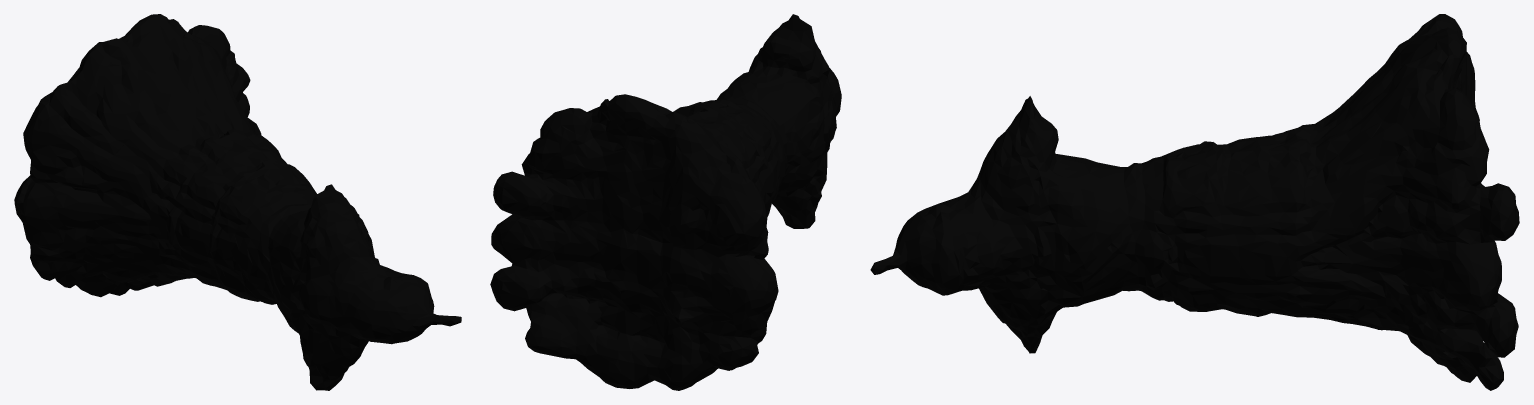
3 renders of one model, left to right at view 1: azimuth 30°, elevation 25°; view 2: azimuth 150°, elevation 25°; view 3: azimuth 270°, elevation 25°, orthographic. The views are drawn at different scales.
Parts seen in each view (by area): view 1: geometry_0; view 2: geometry_0; view 3: geometry_0.
Part boxes in pixels (x1,y1,x2,y2): geometry_0: (14, 14, 461, 390); geometry_0: (490, 14, 841, 390); geometry_0: (870, 14, 1519, 390).
Bounding box in the file's own units: 0.5709 × 0.5807 × 0.9938.
Materials: 1 (1 with a texture image).
